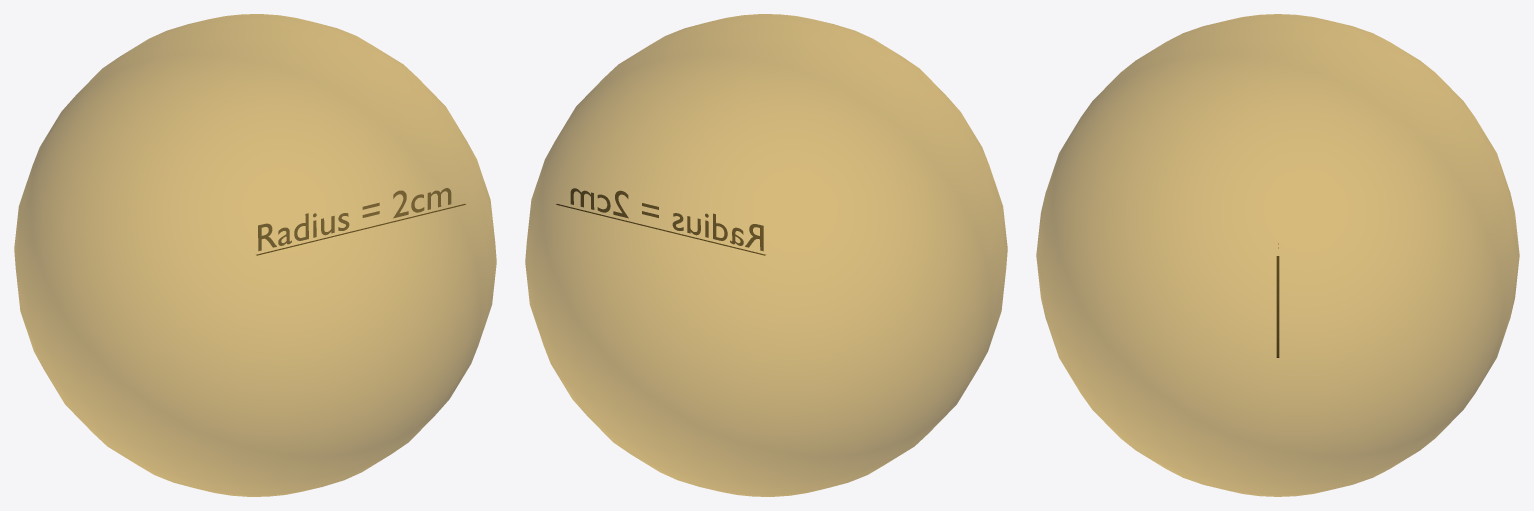
Rendered from spherer2.glb.
The picture shows the model from 3 angles, left to right: view 1: azimuth 30°, elevation 25°; view 2: azimuth 150°, elevation 25°; view 3: azimuth 270°, elevation 25°; orthographic projection.
Visible parts, largest first — view 1: Sphere, Text; view 2: Sphere, Text; view 3: Sphere.
Boxes of the visible parts, x1,y1,x2,y2 form: Sphere: (14,14,496,496); Text: (258,188,451,250); Sphere: (525,14,1007,496); Text: (570,188,763,250); Sphere: (1036,14,1519,496).
Bounding box in the file's own units: 0.4008 × 0.4 × 0.4.
